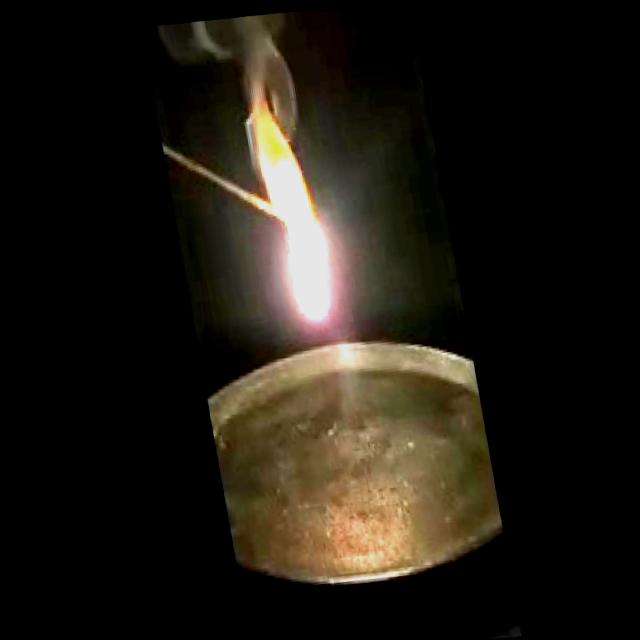Fire: (235, 80, 342, 324)
